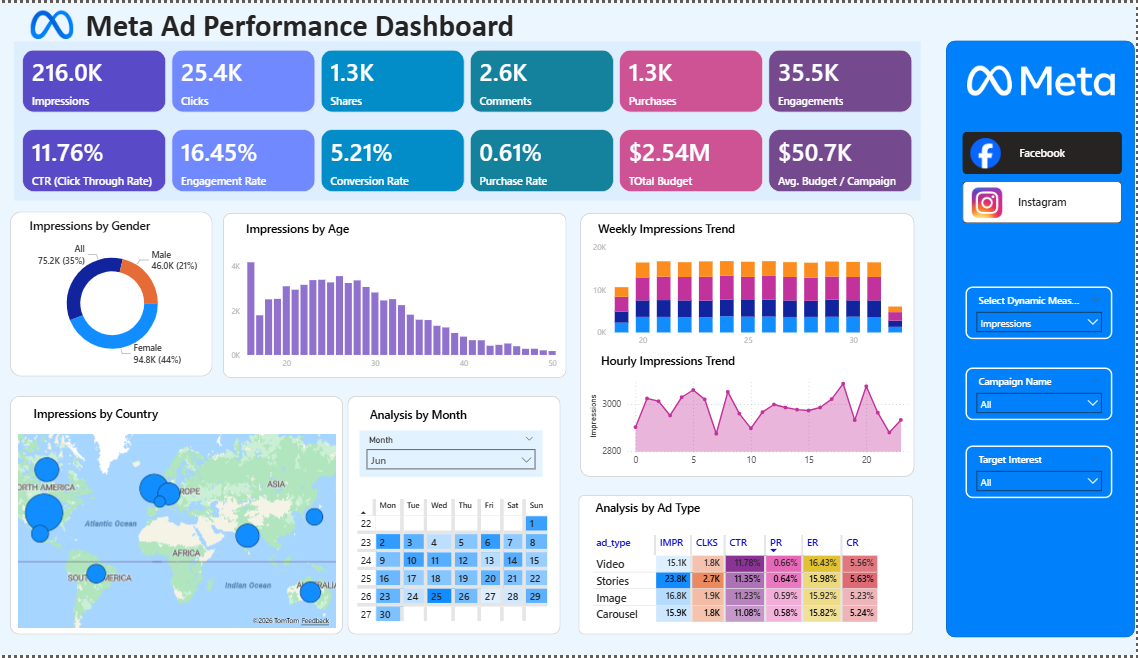

The page's visual inventory and layout, read from the dashboard file:
{"tool":"powerbi","page":{"name":"Facebook","canvas":[1570,900],"ordinal":0},"visuals":[{"type":"textbox","box":[116,0,615,72.5],"z":0},{"type":"shape","box":[1308.6,51.8,260.9,824.1],"z":1000},{"type":"cardVisual","fields":{"Data":["ad_events.Impressions","ad_events.Clicks","ad_events.Shares","ad_events.Comments","ad_events.Purchases","ad_events.Engagements"]},"box":[16.6,47.6,1265.1,120.1],"z":2000},{"type":"cardVisual","fields":{"Data":["ad_events.CTR (Click Through Rate)","ad_events.Engagement Rate","ad_events.Conversion Rate","ad_events.Purchase Rate","ad_events.TOtal Budget","ad_events.Avg. Budget Per Campaign"]},"box":[16.6,157.4,1265.1,120.1],"z":3000},{"type":"slicer","fields":{"Values":["Select Dynamic Measures.Select Dynamic Measures"]},"box":[1335.5,391.3,202.9,72.5],"z":4000},{"type":"shape","box":[16.6,287.8,279.5,227.8],"z":5000},{"type":"donutChart","fields":{"Y":["ad_events.Impressions"],"Category":["ads.target_gender"]},"box":[31.1,323,252.6,182.2],"z":6000},{"type":"card","fields":{"Values":["ad_events.Gender Title"]},"box":[31.1,294,190.5,24.8],"z":7000},{"type":"shape","box":[310.6,289.9,474.2,227.8],"z":8000},{"type":"columnChart","fields":{"Y":["ad_events.Impressions"],"Category":["users.user_age"]},"box":[316.8,318.9,459.7,194.6],"z":9000},{"type":"card","fields":{"Values":["ad_events.Age Title"]},"box":[314.7,298.2,196.7,24.8],"z":10000},{"type":"shape","box":[16.6,542.5,459.7,329.2],"z":11000},{"type":"azureMap","fields":{"Size":["ad_events.Impressions"],"Category":["users.country"]},"box":[22.8,590.1,449,277],"z":12000},{"type":"shape","box":[482.5,542.5,294,329.2],"z":13000},{"type":"pivotTable","fields":{"Columns":["Calendar Tble.Day Name"],"Values":["Min(Calendar Tble.Day Number)"],"Rows":["Calendar Tble.Week Number"]},"box":[490.7,679.2,277.5,180.1],"z":14000},{"type":"slicer","fields":{"Values":["Calendar Tble.Month"]},"box":[499,590.1,252.6,64.2],"z":15000},{"type":"card","fields":{"Values":["ad_events.Date Title"]},"box":[492.8,554.9,173.9,29],"z":16000},{"type":"card","fields":{"Values":["ad_events.Map Title"]},"box":[26.9,554.9,215.3,26.9],"z":17000},{"type":"shape","box":[803.4,289.9,461.7,364.4],"z":18000},{"type":"columnChart","fields":{"Y":["ad_events.Impressions"],"Category":["Calendar Tble.Week Number"],"Series":["ads.ad_type"]},"box":[815.8,323,439,159.4],"z":19000},{"type":"card","fields":{"Values":["ad_events.Weekly Title"]},"box":[811.7,298.2,221.6,24.8],"z":20000},{"type":"areaChart","fields":{"Y":["ad_events.Impressions"],"Category":["ad_events.Event Hour"]},"box":[811.7,507.3,449.3,140.8],"z":21000},{"type":"card","fields":{"Values":["ad_events.Hourly Title"]},"box":[813.7,480.4,221.6,24.8],"z":22000},{"type":"shape","box":[801.3,679.2,461.7,192.6],"z":23000},{"type":"pivotTable","fields":{"Rows":["ads.ad_type"],"Values":["ad_events.Impressions","ad_events.Clicks","ad_events.CTR (Click Through Rate)","ad_events.Purchase Rate","ad_events.Engagement Rate","ad_events.Conversion Rate"]},"box":[815.8,728.9,439,130.4],"z":24000},{"type":"card","fields":{"Values":["ad_events.Matrix Title"]},"box":[811.7,683.3,169.8,24.8],"z":25000},{"type":"image","box":[1337.4,71.9,204,69.5],"z":26000},{"type":"image","box":[33.1,10.4,82.8,39],"z":27000},{"type":"slicer","fields":{"Values":["campaigns.name"]},"box":[1335.5,503.2,202.9,72.5],"z":28000},{"type":"slicer","fields":{"Values":["ads.target_interests"]},"box":[1335.5,610.8,202.9,72.5],"z":29000},{"type":"pageNavigator","box":[1330.5,178.5,220.2,127.5],"z":30000},{"type":"image","box":[1337.4,255,55.6,41.7],"z":31000},{"type":"image","box":[1335.1,185.4,55.6,41.7],"z":32000}]}

Visuals, with their boxes in screenshot pixels (x1, y1, x2, y2), scaled from the page's 1570x900 canvas onto the 1138x658 screenshot:
textbox: {"left": 84, "top": 0, "right": 530, "bottom": 53}
shape: {"left": 949, "top": 38, "right": 1137, "bottom": 640}
cardVisual - ad_events.Impressions x ad_events.Clicks: {"left": 12, "top": 35, "right": 929, "bottom": 123}
cardVisual - ad_events.CTR (Click Through Rate) x ad_events.Engagement Rate: {"left": 12, "top": 115, "right": 929, "bottom": 203}
slicer - Select Dynamic Measures.Select Dynamic Measures: {"left": 968, "top": 286, "right": 1115, "bottom": 339}
shape: {"left": 12, "top": 210, "right": 215, "bottom": 377}
donutChart - ad_events.Impressions x ads.target_gender: {"left": 23, "top": 236, "right": 206, "bottom": 369}
card - ad_events.Gender Title: {"left": 23, "top": 215, "right": 161, "bottom": 233}
shape: {"left": 225, "top": 212, "right": 569, "bottom": 378}
columnChart - ad_events.Impressions x users.user_age: {"left": 230, "top": 233, "right": 563, "bottom": 375}
card - ad_events.Age Title: {"left": 228, "top": 218, "right": 371, "bottom": 236}
shape: {"left": 12, "top": 397, "right": 345, "bottom": 637}
azureMap - ad_events.Impressions x users.country: {"left": 17, "top": 431, "right": 342, "bottom": 634}
shape: {"left": 350, "top": 397, "right": 563, "bottom": 637}
pivotTable - Calendar Tble.Day Name x Min(Calendar Tble.Day Number): {"left": 356, "top": 497, "right": 557, "bottom": 628}
slicer - Calendar Tble.Month: {"left": 362, "top": 431, "right": 545, "bottom": 478}
card - ad_events.Date Title: {"left": 357, "top": 406, "right": 483, "bottom": 427}
card - ad_events.Map Title: {"left": 19, "top": 406, "right": 176, "bottom": 425}
shape: {"left": 582, "top": 212, "right": 917, "bottom": 478}
columnChart - ad_events.Impressions x Calendar Tble.Week Number: {"left": 591, "top": 236, "right": 910, "bottom": 353}
card - ad_events.Weekly Title: {"left": 588, "top": 218, "right": 749, "bottom": 236}
areaChart - ad_events.Impressions x ad_events.Event Hour: {"left": 588, "top": 371, "right": 914, "bottom": 474}
card - ad_events.Hourly Title: {"left": 590, "top": 351, "right": 750, "bottom": 369}
shape: {"left": 581, "top": 497, "right": 915, "bottom": 637}
pivotTable - ads.ad_type x ad_events.Impressions: {"left": 591, "top": 533, "right": 910, "bottom": 628}
card - ad_events.Matrix Title: {"left": 588, "top": 500, "right": 711, "bottom": 518}
image: {"left": 969, "top": 53, "right": 1117, "bottom": 103}
image: {"left": 24, "top": 8, "right": 84, "bottom": 36}
slicer - campaigns.name: {"left": 968, "top": 368, "right": 1115, "bottom": 421}
slicer - ads.target_interests: {"left": 968, "top": 447, "right": 1115, "bottom": 500}
pageNavigator: {"left": 964, "top": 131, "right": 1124, "bottom": 224}
image: {"left": 969, "top": 186, "right": 1010, "bottom": 217}
image: {"left": 968, "top": 136, "right": 1008, "bottom": 166}
